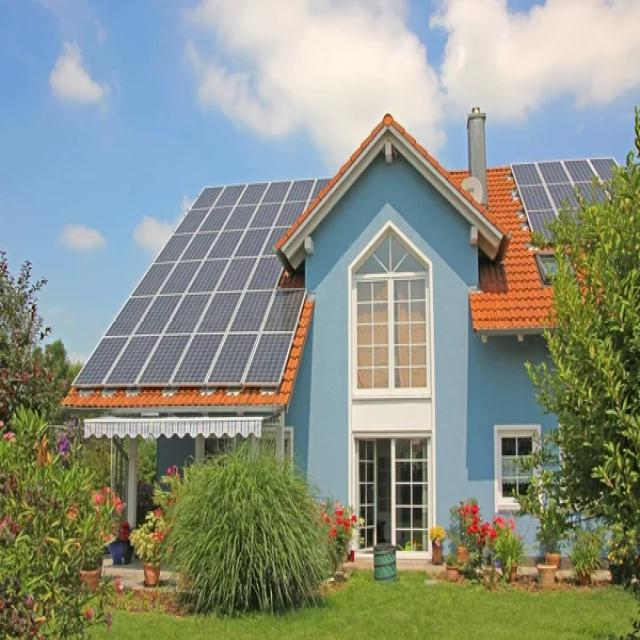clean-solar-panel: (70, 176, 333, 385), (512, 155, 617, 284)
